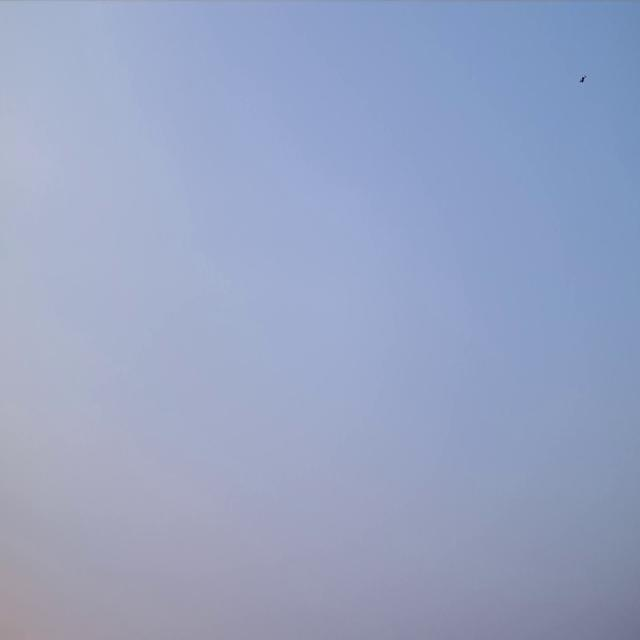UAV: (580, 76, 586, 82)
